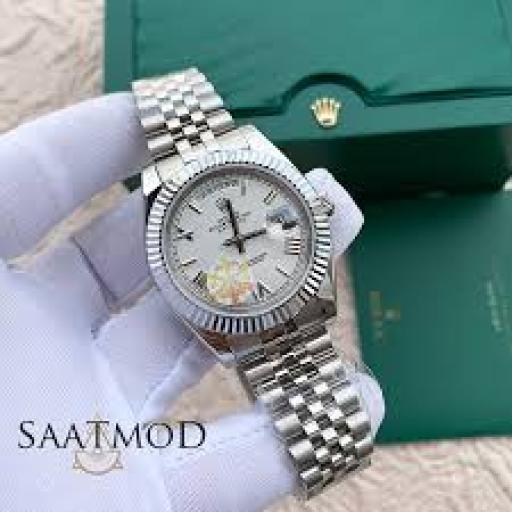KolSaati: (101, 46, 436, 499)
